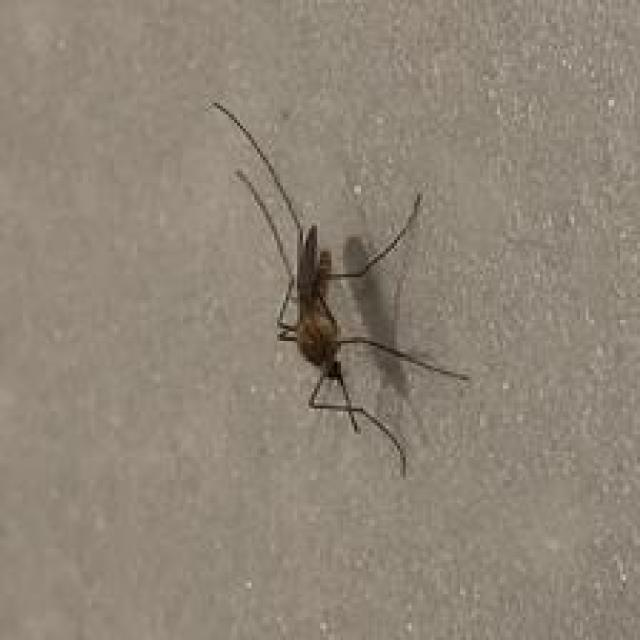Culex: (206, 99, 471, 478)
